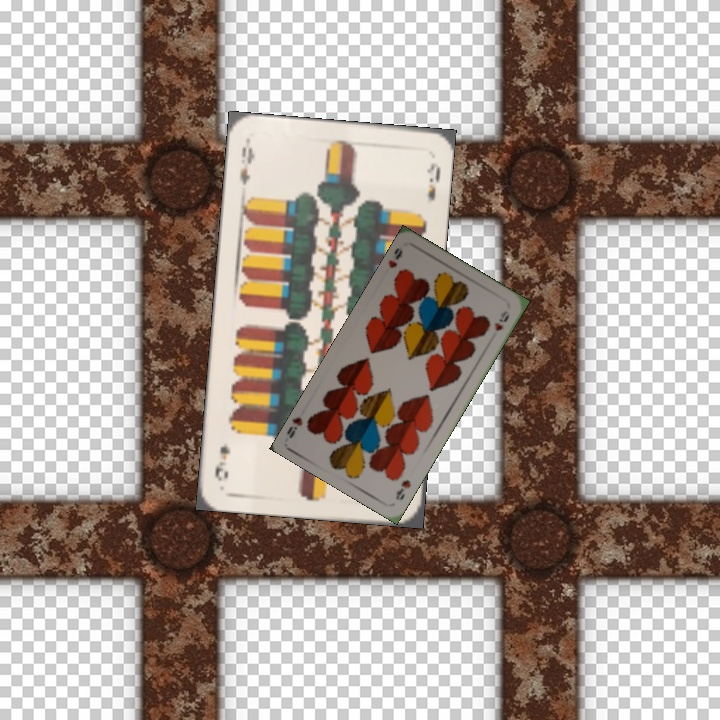E9: (236, 137, 257, 187)
H9: (391, 475, 414, 503), (384, 244, 405, 271)
